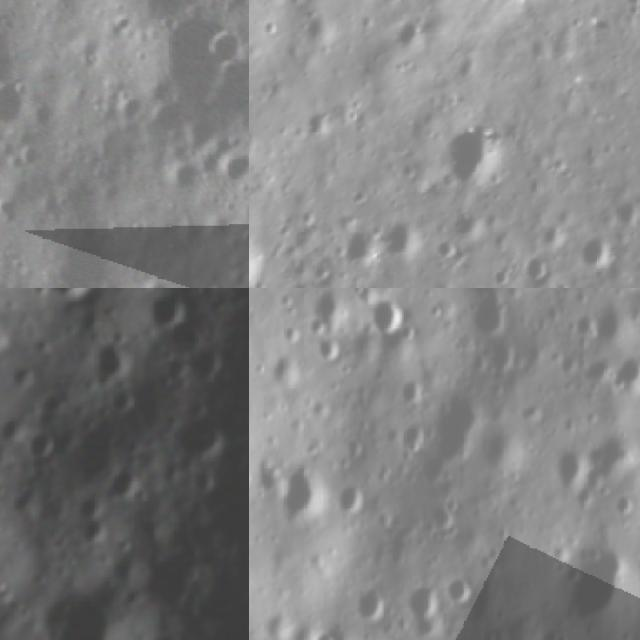crater: (143, 2, 249, 139), (566, 528, 633, 631), (438, 110, 516, 198), (42, 578, 131, 640), (430, 400, 491, 466), (272, 461, 332, 521), (0, 65, 44, 134), (175, 409, 232, 458), (571, 226, 623, 278), (84, 333, 136, 384), (378, 208, 423, 266), (338, 220, 383, 273), (386, 7, 429, 58), (144, 288, 201, 326), (402, 588, 442, 638), (442, 202, 485, 248), (552, 443, 596, 485), (249, 223, 275, 288), (468, 292, 514, 328), (188, 340, 229, 380), (370, 295, 406, 337), (337, 479, 373, 521), (519, 248, 557, 286), (29, 426, 65, 466), (107, 464, 145, 501), (268, 348, 302, 388), (481, 340, 515, 376), (269, 605, 303, 640), (429, 502, 464, 535), (444, 574, 474, 612), (308, 334, 344, 365), (313, 289, 340, 330), (615, 353, 640, 396), (82, 517, 118, 545), (79, 487, 110, 519), (398, 375, 426, 410), (360, 589, 385, 627), (41, 288, 99, 302), (400, 426, 424, 453), (0, 0, 29, 11), (310, 631, 342, 640)
